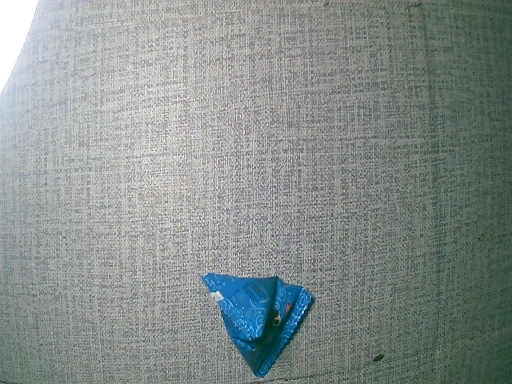plastic: (199, 266, 315, 378)
